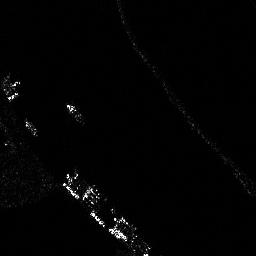ship: (65, 101, 84, 125)
